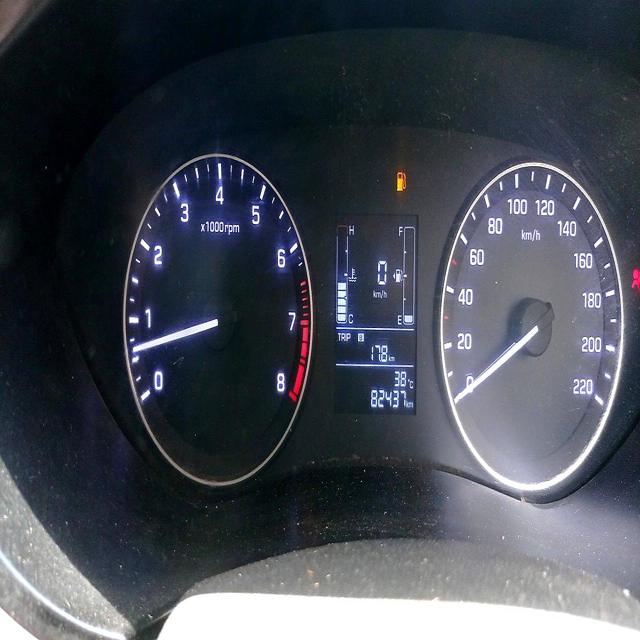odometer: (363, 386, 407, 415)
